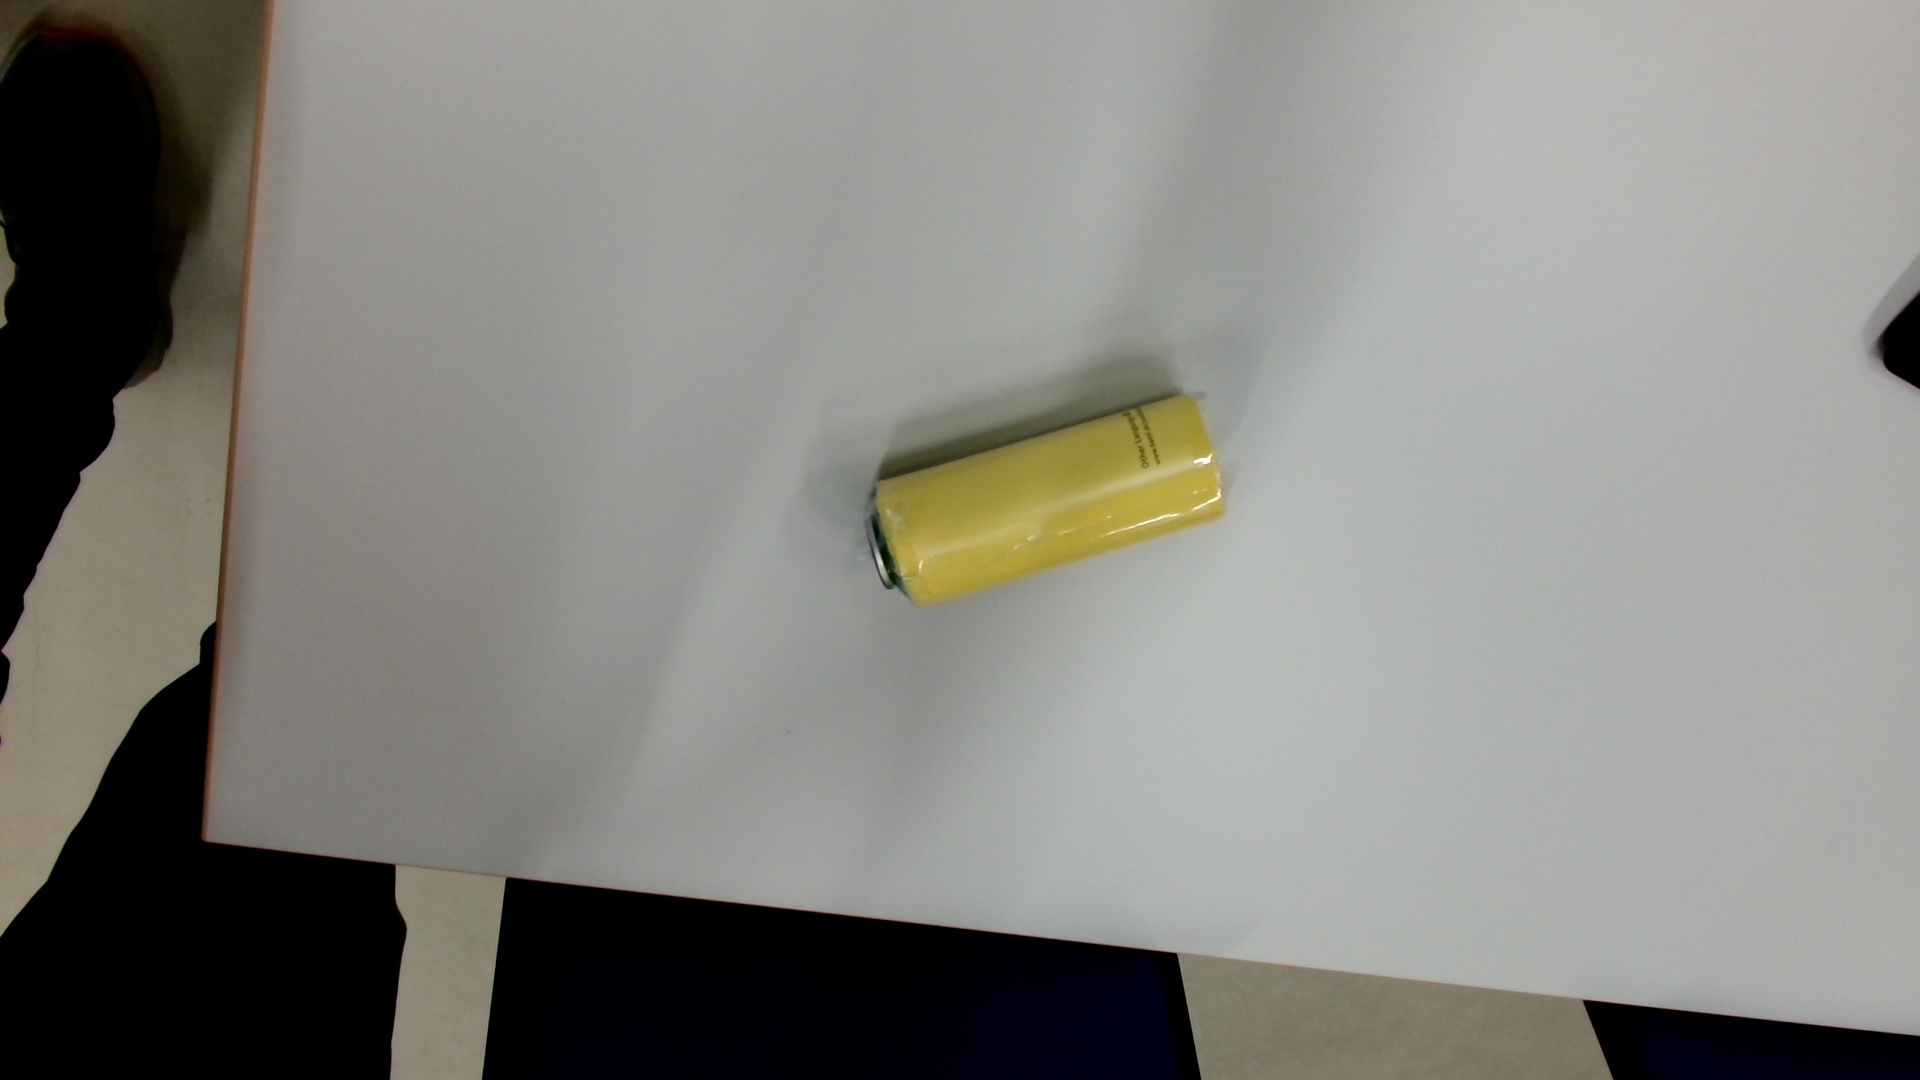Cylinder: (851, 375, 1259, 619)
